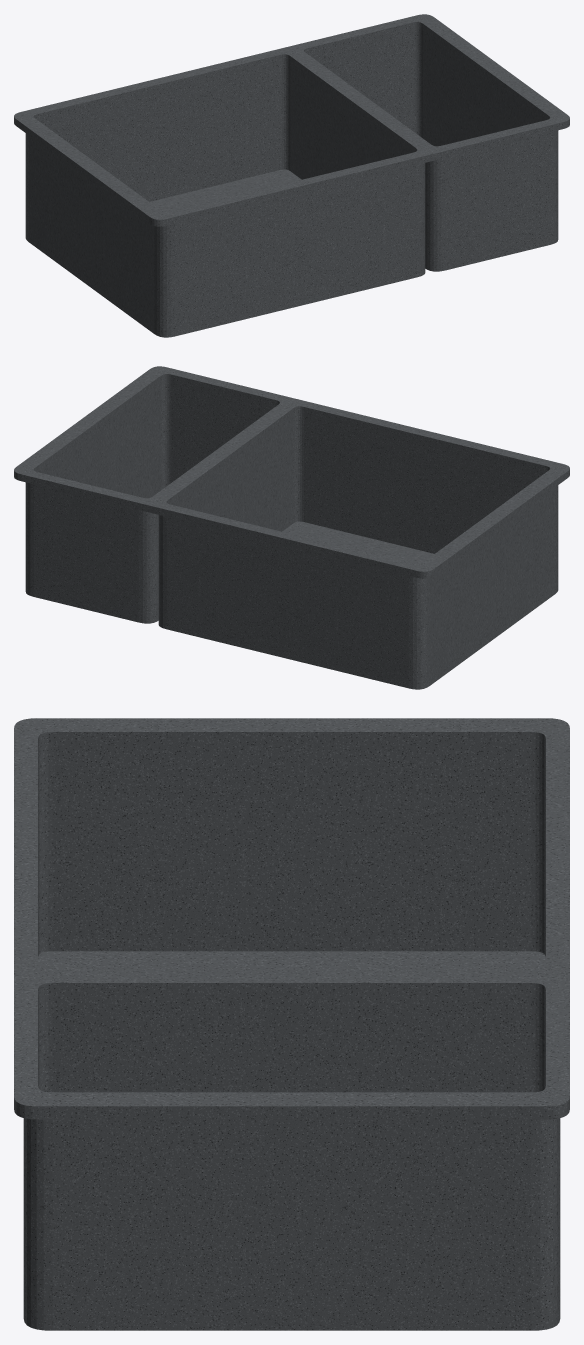
Rendered from kitchen-sink.glb.
3 renders of one model, top to bottom at view 1: azimuth 30°, elevation 25°; view 2: azimuth 150°, elevation 25°; view 3: azimuth 270°, elevation 25°, orthographic. The views are drawn at different scales.
Visible parts, largest first — view 1: rim; view 2: rim; view 3: rim.
Boxes of the visible parts, x1=… form: rim: x1=14, y1=14, x2=569, y2=337; rim: x1=14, y1=366, x2=569, y2=689; rim: x1=14, y1=718, x2=569, y2=1330.
Size of the model in its own units: 0.76 by 0.212 by 0.46.
Materials: 3 (1 with a texture image).
